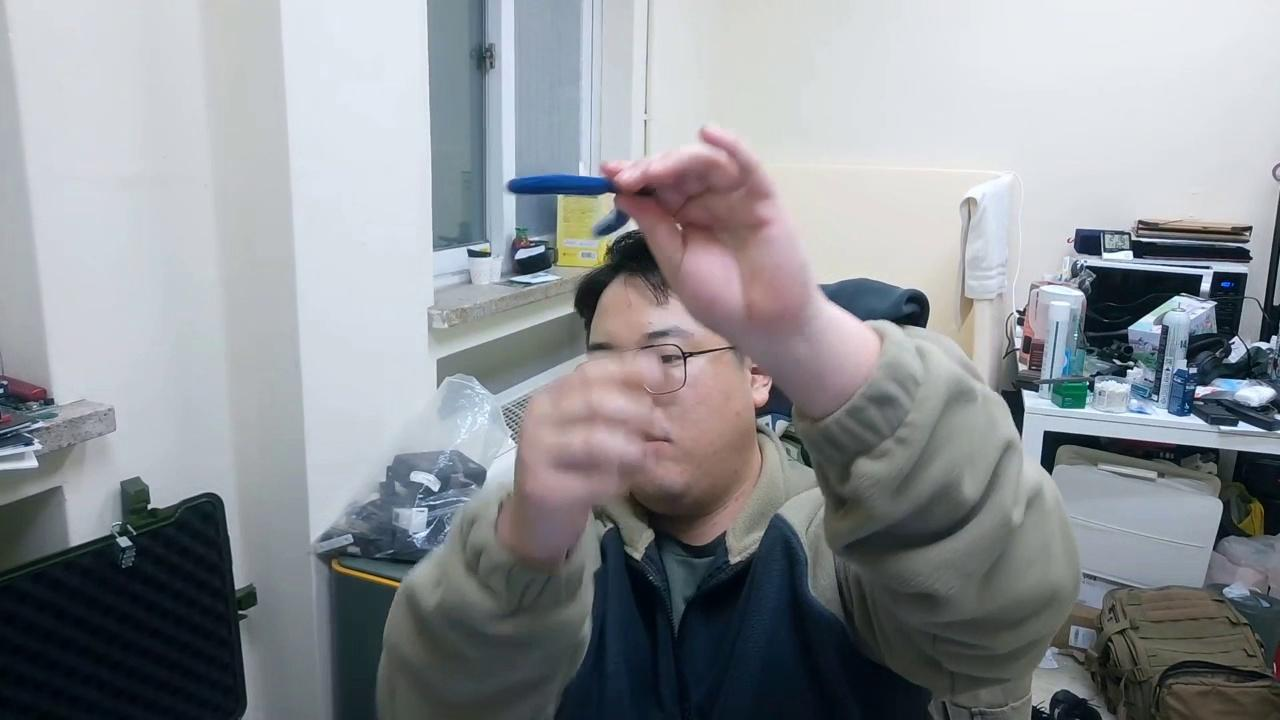blue_pliers: (505, 172, 630, 238)
